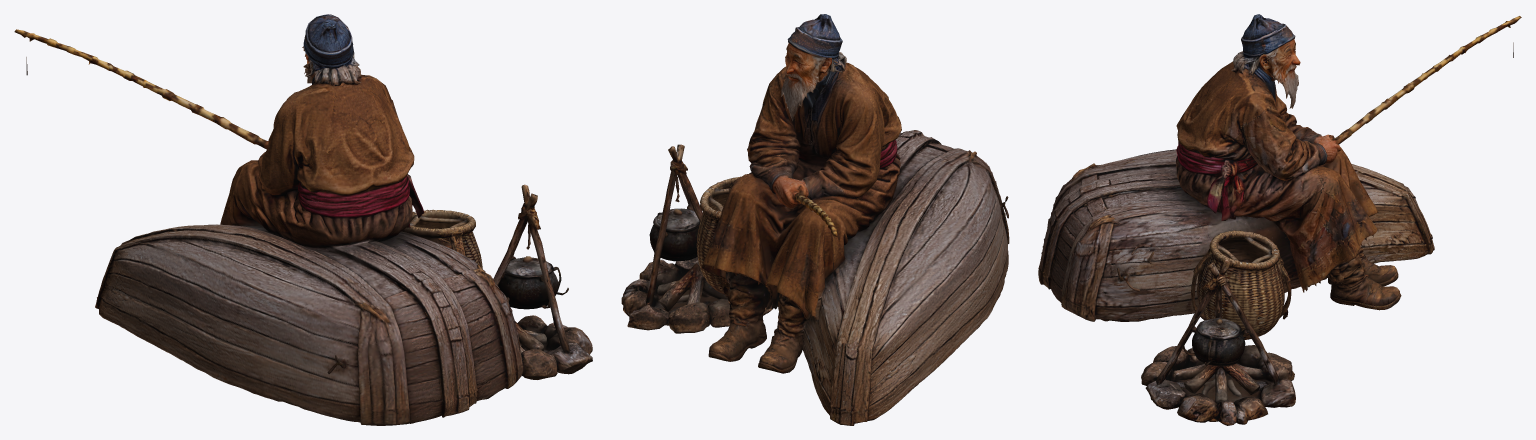
File: Nergui-tripo.glb
3 views of the same model, side by side, from view 1: azimuth 30°, elevation 25°; view 2: azimuth 150°, elevation 25°; view 3: azimuth 270°, elevation 25° (orthographic). The views are drawn at different scales.
Parts seen in each view (by area): view 1: tripo_node_6336b853-1973-4f65-a341-99403e35080a; view 2: tripo_node_6336b853-1973-4f65-a341-99403e35080a; view 3: tripo_node_6336b853-1973-4f65-a341-99403e35080a.
Part boxes in pixels (x1,y1,x2,y2): tripo_node_6336b853-1973-4f65-a341-99403e35080a: (14, 14, 592, 425); tripo_node_6336b853-1973-4f65-a341-99403e35080a: (621, 14, 1009, 425); tripo_node_6336b853-1973-4f65-a341-99403e35080a: (1038, 14, 1521, 425).
Bounding box in the file's own units: 0.8129 × 0.7227 × 1.
Materials: 1 (1 with a texture image).
